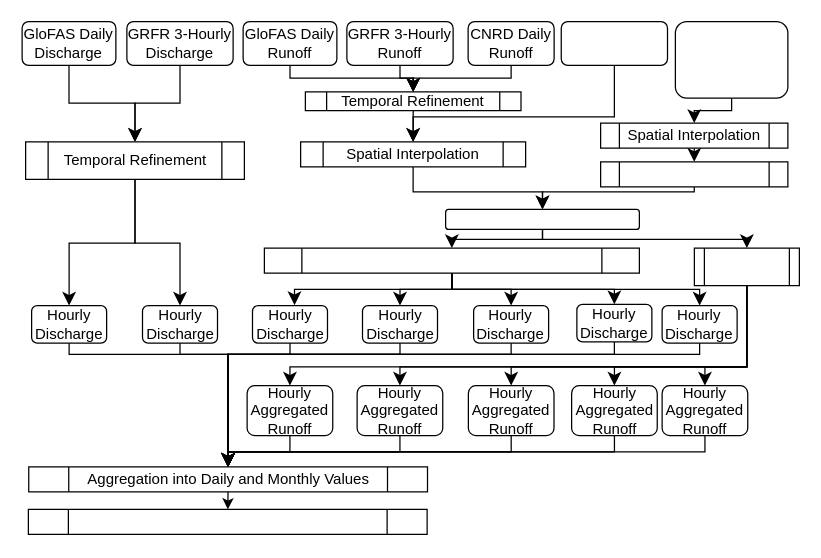
The diagram is 821 pixels wide and 558 high, and some of its shapes have lost their labels. Here are the shapes that lost their labels. From the top down, the centre of each, then its label:
At (x=614, y=42): "ERA5-Land Hourly Runoff".
At (x=731, y=59): "ERA5-Land Hourly Meteorological Data".
At (x=693, y=174): "Noah-MP".
At (x=541, y=218): "0.01° Hourly Runoff".
At (x=451, y=260): "Muskingum-Cunge River Network Routing".
At (x=746, y=266): "Spatial Aggregation".
At (x=227, y=521): "Evaluation using Discharge Observations".
